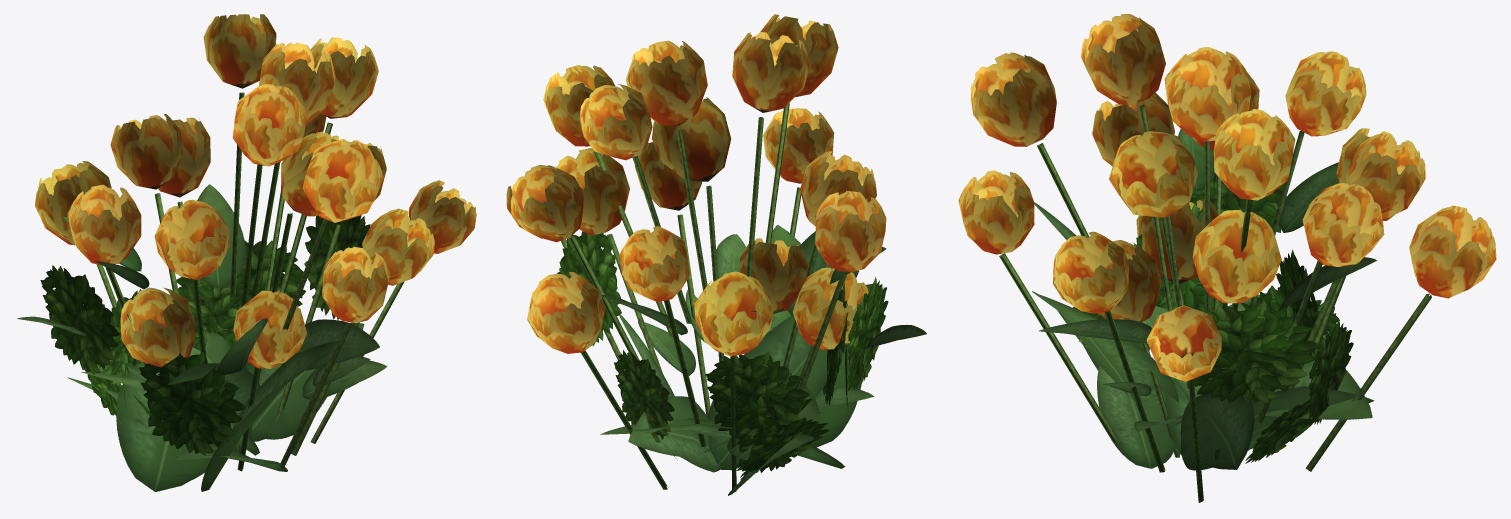
The model's file is mm8_deco_plant17.glb.
The picture shows the model from 3 angles, left to right: view 1: azimuth 30°, elevation 25°; view 2: azimuth 150°, elevation 25°; view 3: azimuth 270°, elevation 25°; orthographic projection. The views are drawn at different scales.
Visible parts, largest first — view 1: Plant; view 2: Plant; view 3: Plant.
Boxes of the visible parts, x1,y1,x2,y2 form: Plant: [17, 14, 476, 491]; Plant: [506, 14, 926, 495]; Plant: [958, 14, 1496, 502].
Bounding box in the file's own units: 1.04 × 0.9066 × 1.
Materials: 1 (1 with a texture image).
